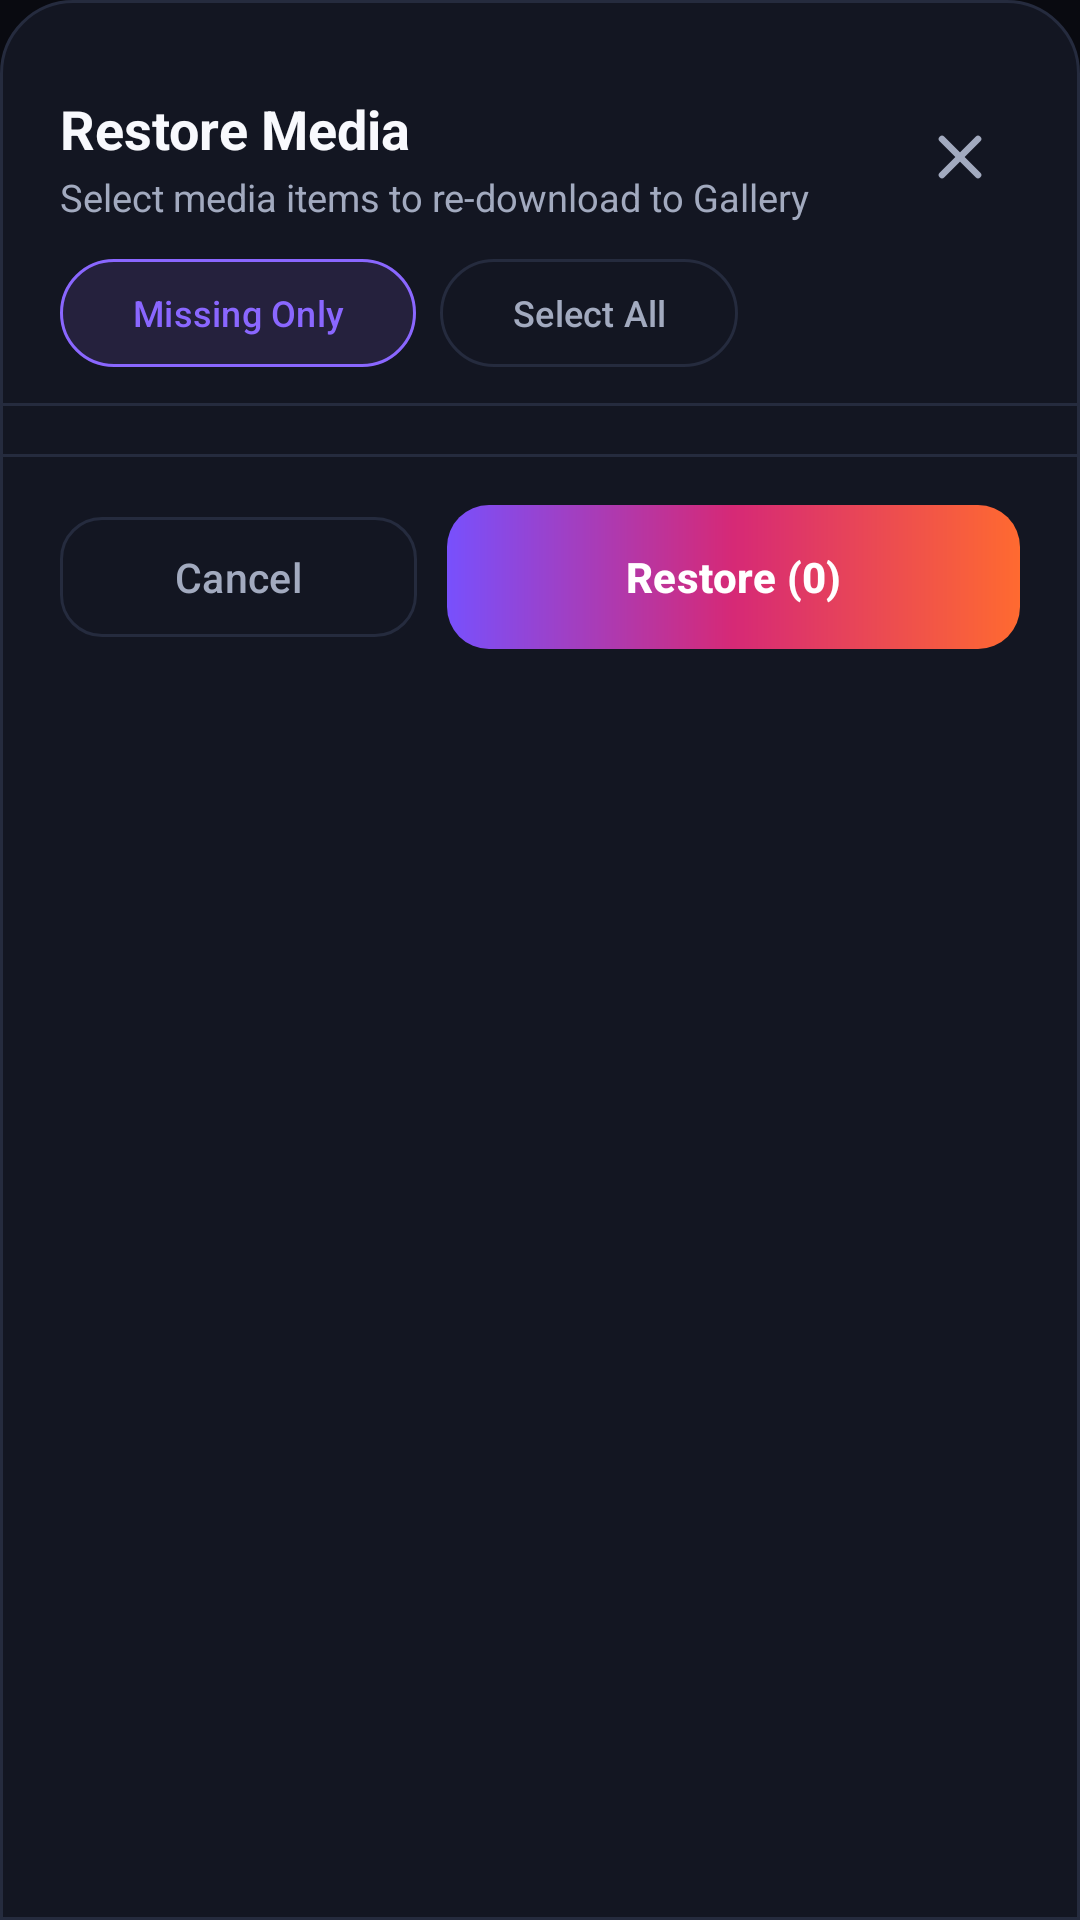

Icon bounding boxes for this 1080*1920 phone screenshot, format (x1, y1, x2, y2):
Close: (938, 135, 982, 179)
